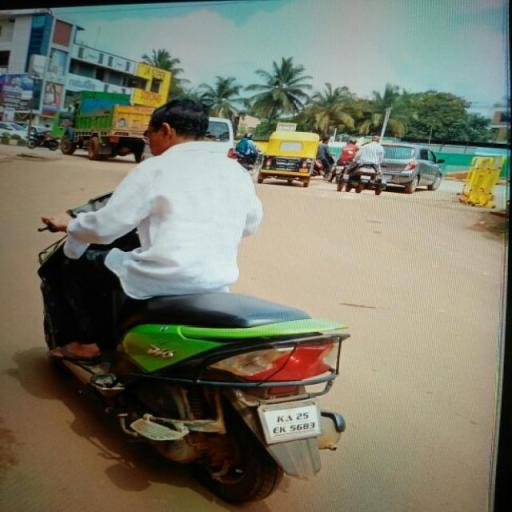bike: (25, 93, 363, 505)
numberplate: (258, 398, 326, 444)
withouthelmet: (150, 102, 212, 147)
